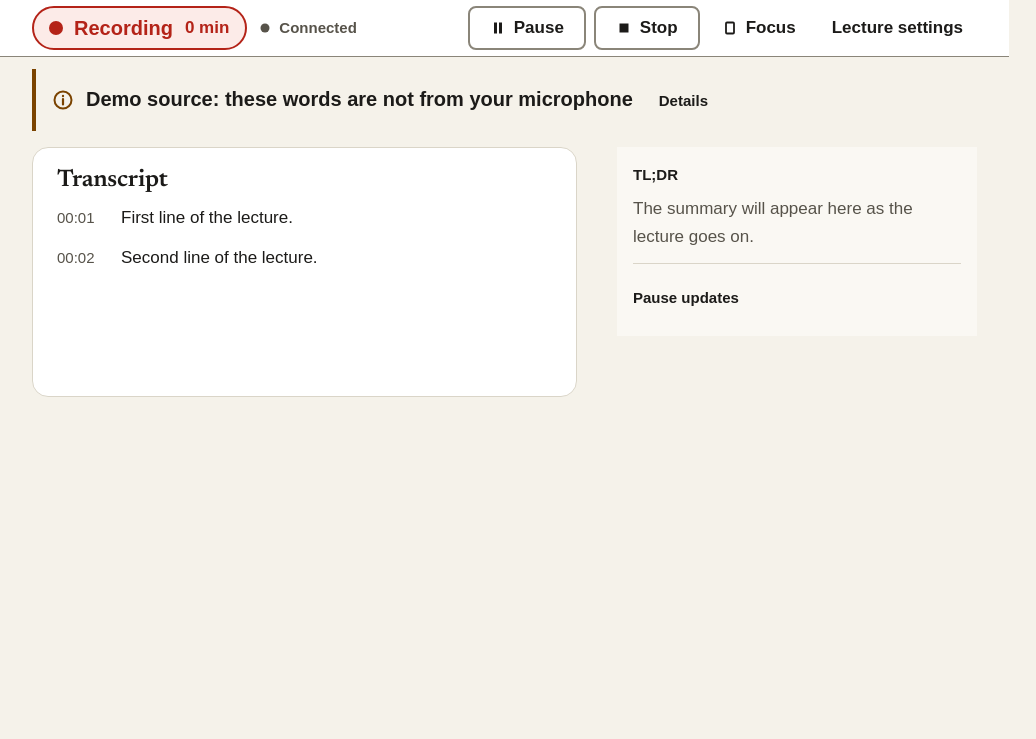
Demo-source notice as a one-line Note (redesign-round2 slice 8b, PO-18c) › the open state survives Live -> Paused (the note stays mounted); the bar has no Demo tag in either state
Click the button "Details".
click(683, 101)  # box [645,79,722,123]
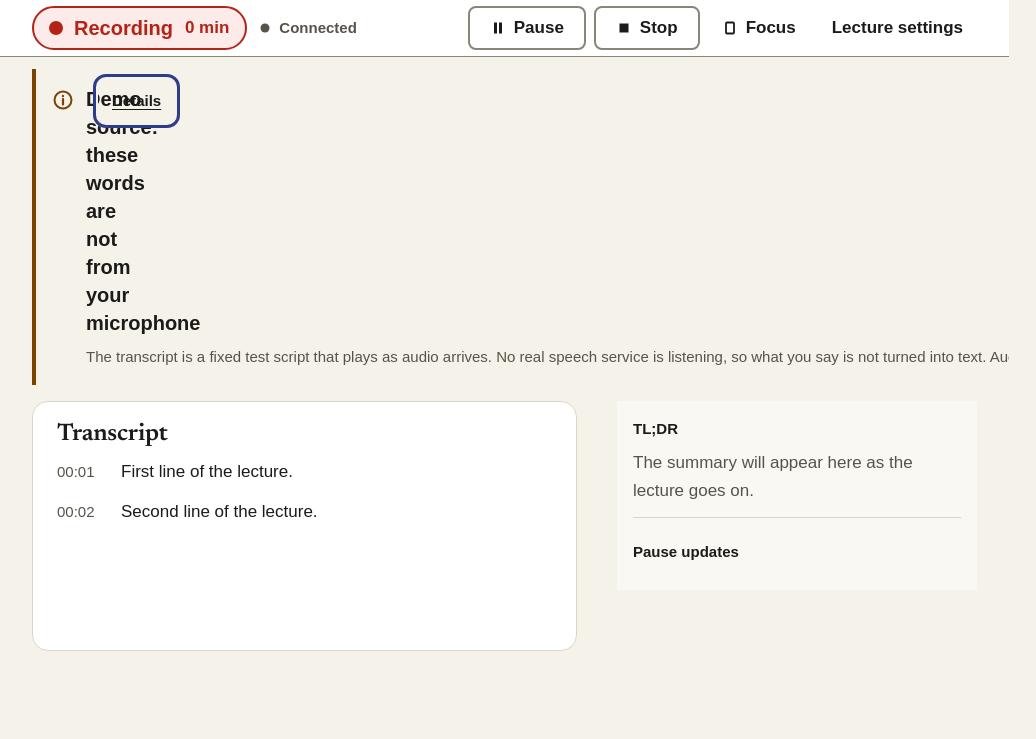
Click the button "Pause".
click(527, 28)  # box [468,6,586,50]
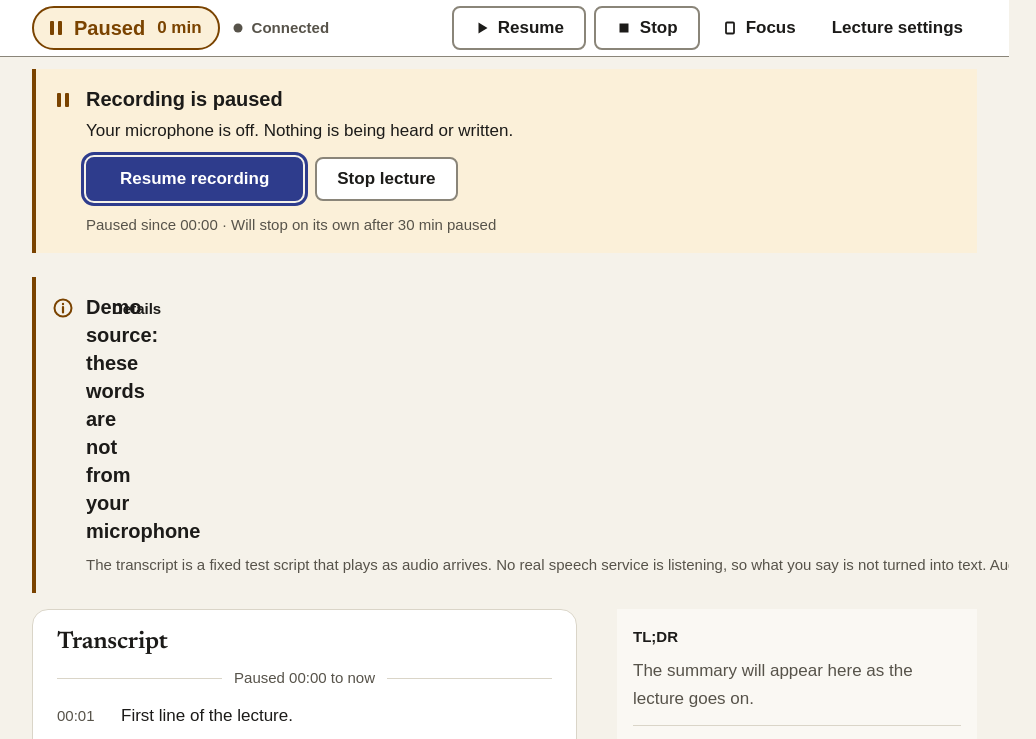
Expected: the button "Details" is expanded, [98,287,175,331]
Expected: the element "Recording is paused" is shown, [32,69,977,253]
